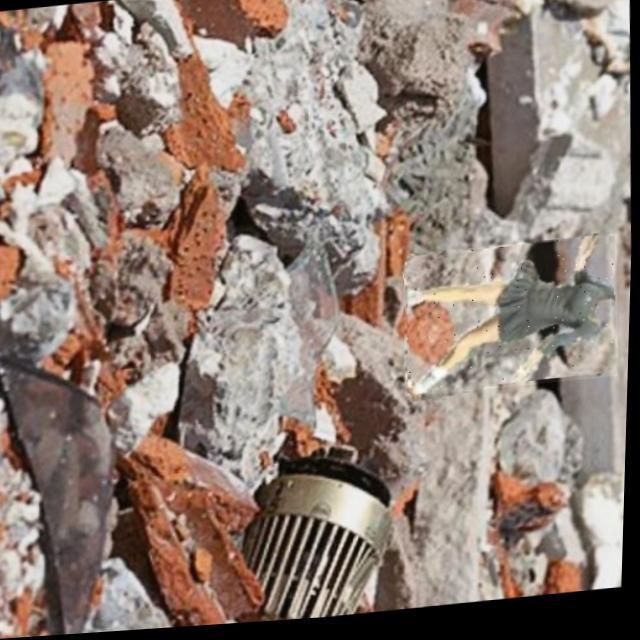Person in Rubble: (401, 242, 622, 404)
